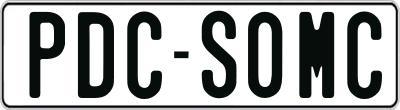0: (247, 11, 286, 102)
C: (345, 9, 381, 102), (124, 12, 160, 99)
D: (75, 9, 113, 98)
M: (297, 11, 336, 102)
P: (27, 9, 62, 95)
S: (199, 9, 239, 99)
